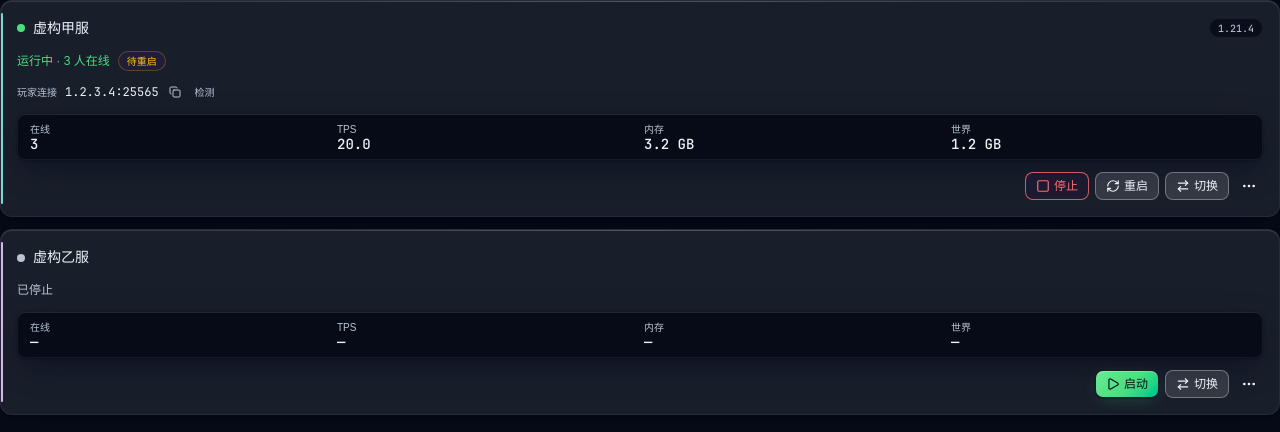
Test: InstanceCards › 运行中实例的菜单不含「升级版本」（升级要求先停止）
This screenshot has width=1280, height=432.
Click the button named "虚构甲服 操作菜单": {"x": 1249, "y": 186} [1235,172,1263,200]
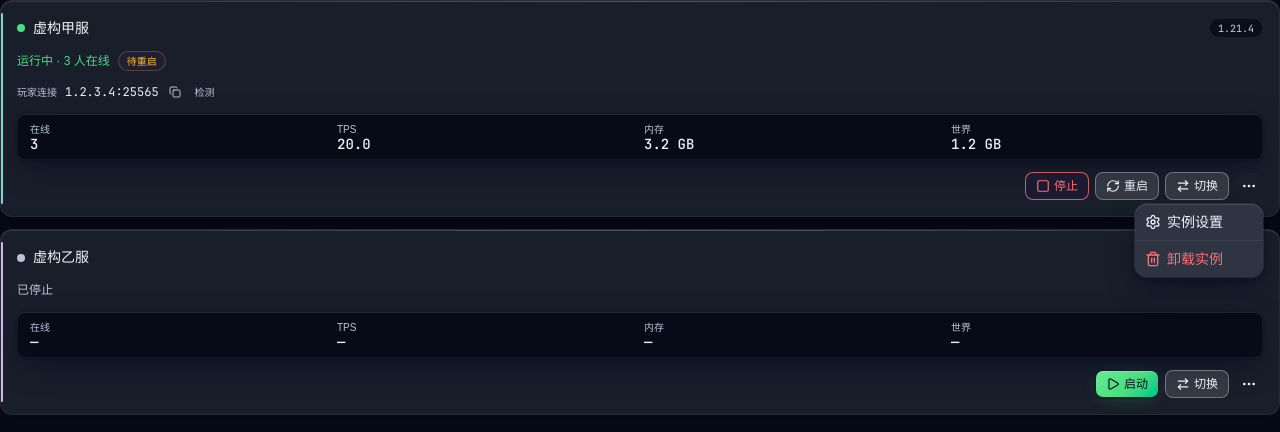
Result: the menu item "实例设置" is shown at [1145,214,1223,230]
